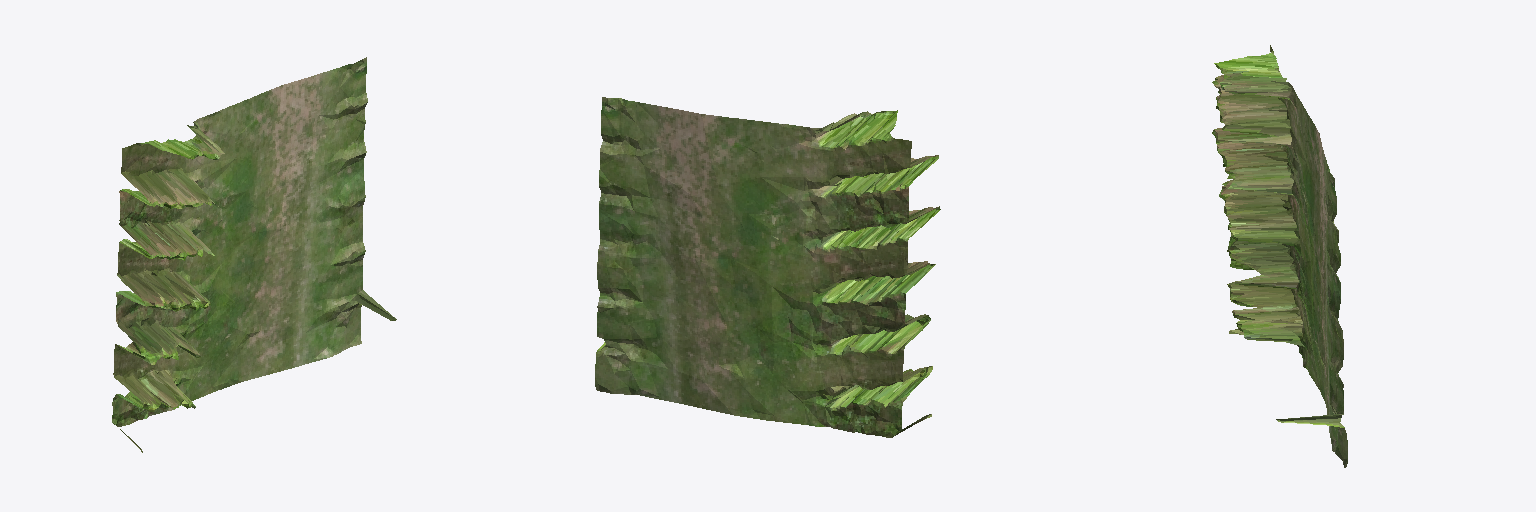
The picture shows the model from 3 angles: view 1: azimuth 30°, elevation 25°; view 2: azimuth 150°, elevation 25°; view 3: azimuth 270°, elevation 25°; orthographic projection.
Parts seen in each view (by area): view 1: grp1; view 2: grp1; view 3: grp1.
Boxes of the visible parts, <box> form: grp1: <box>112,57,396,452</box>; grp1: <box>595,97,940,437</box>; grp1: <box>1212,45,1347,467</box>.
Size of the model in its own units: 10 by 10 by 4.26.
Materials: 1 (1 with a texture image).